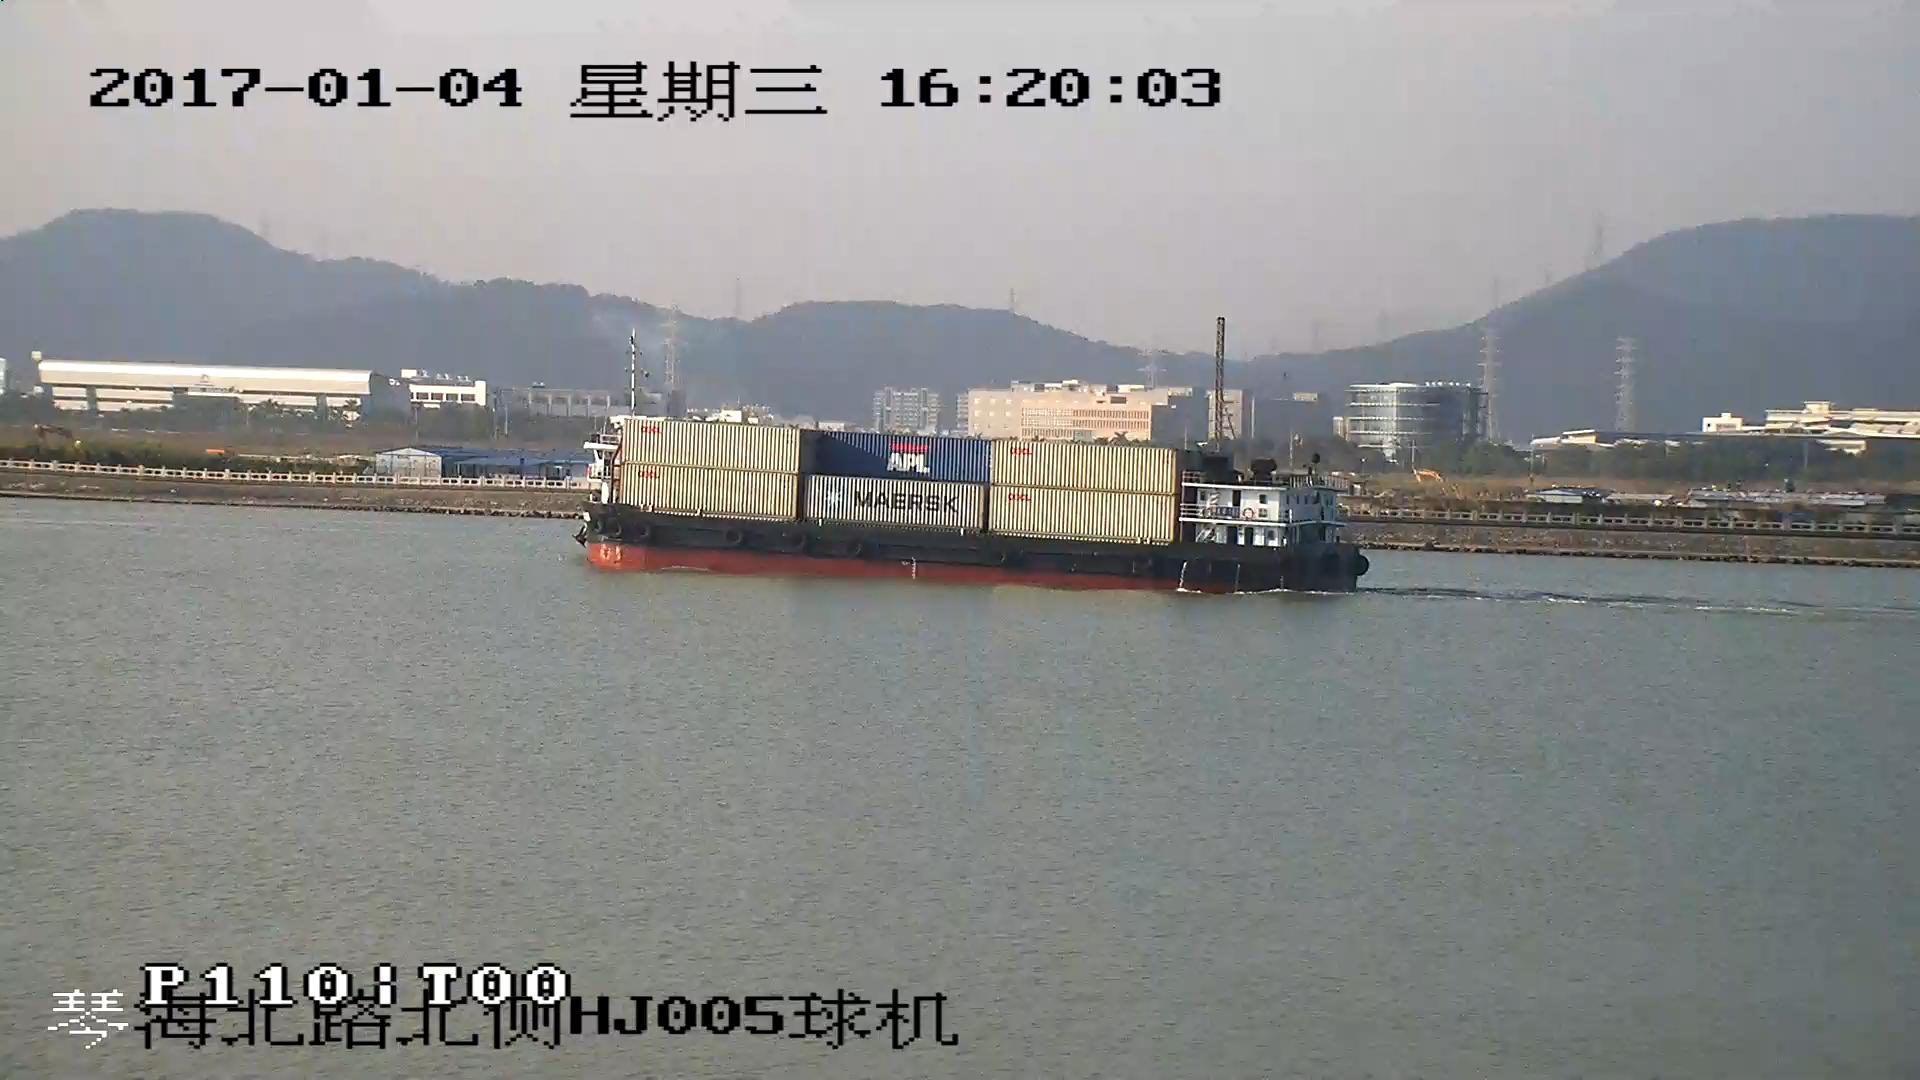container ship: (573, 415, 1372, 598)
